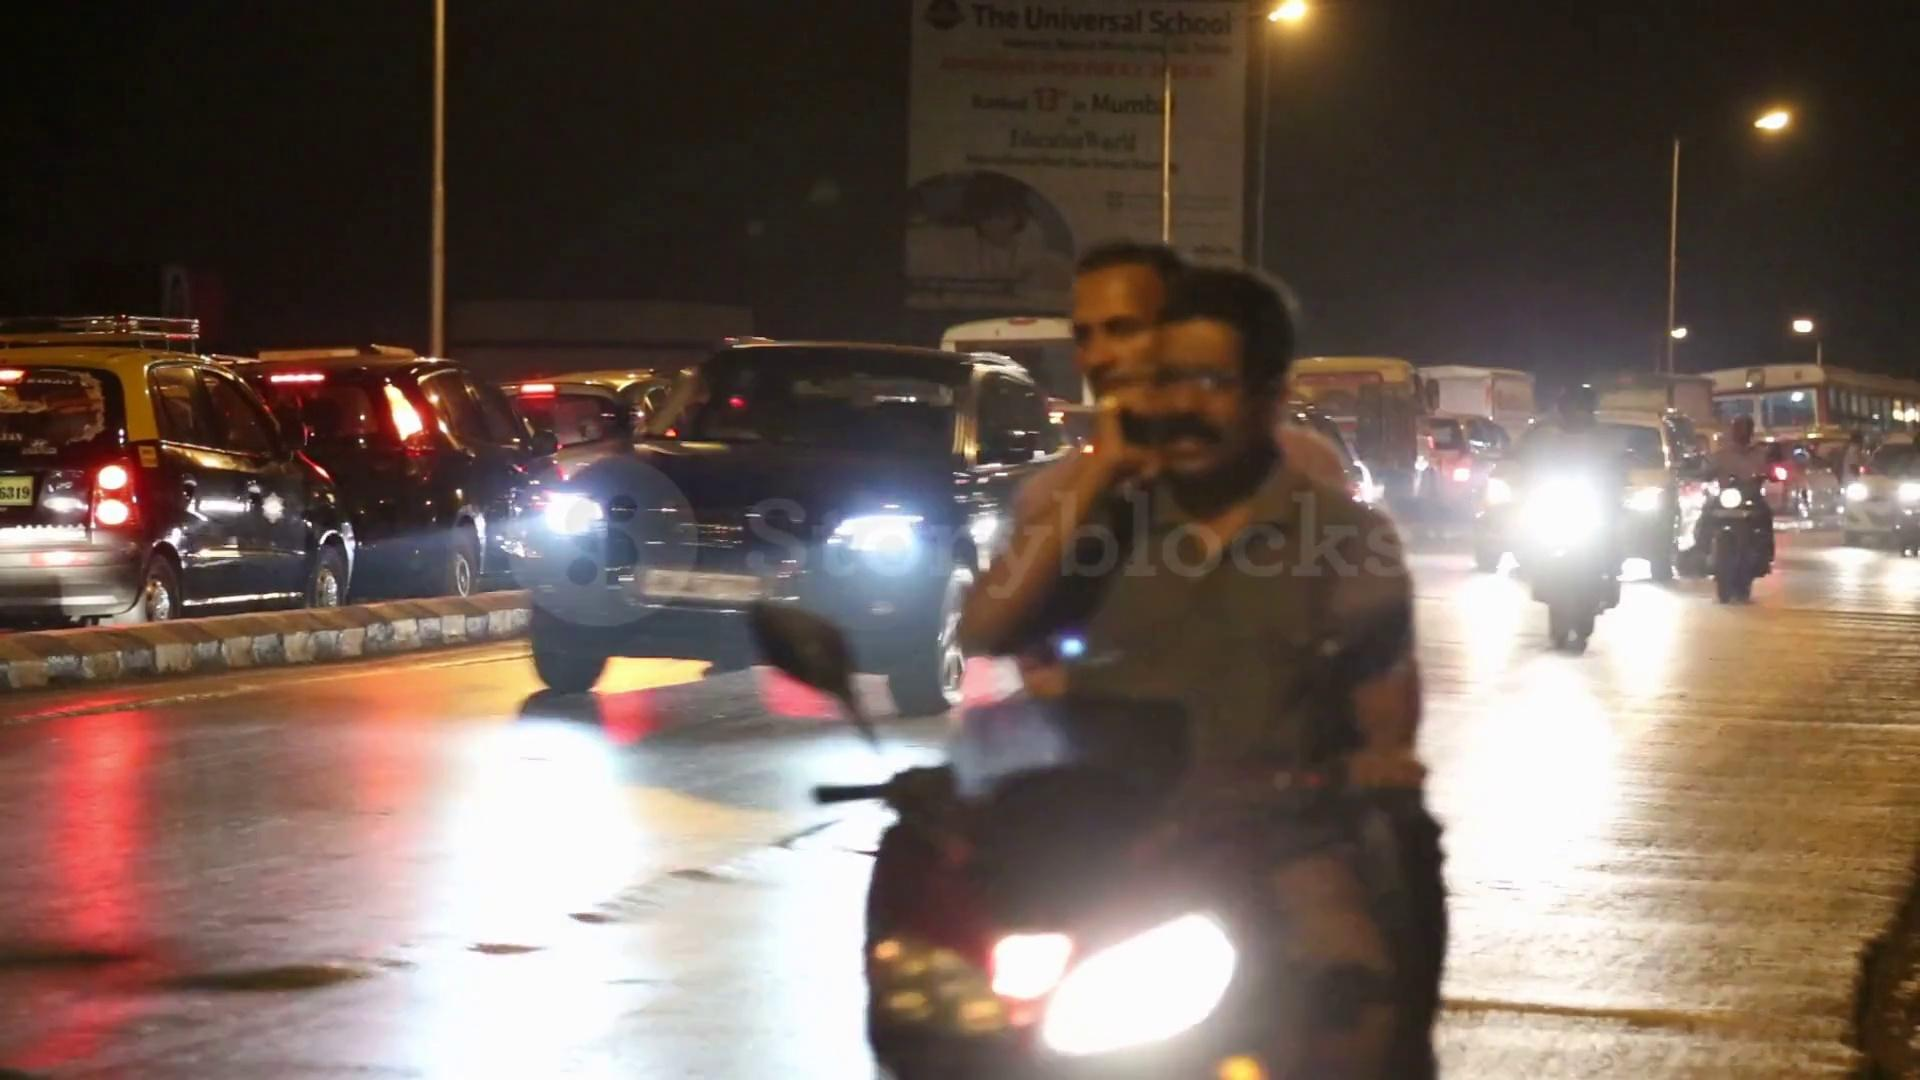rider: (949, 239, 1447, 1077), (1709, 411, 1784, 610)
without_helmate: (1120, 270, 1297, 496)
